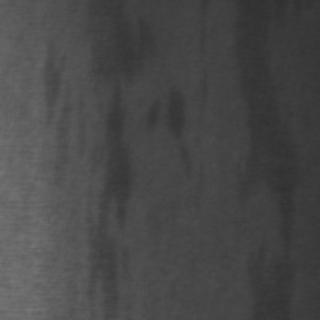inclusion: (229, 2, 301, 298), (75, 4, 148, 288), (38, 31, 70, 163), (157, 82, 197, 174)
